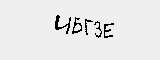Б: (70, 14, 86, 39)
Г: (81, 15, 93, 37)
Е: (101, 19, 115, 41)
З: (93, 19, 103, 41)
Ч: (50, 15, 73, 37)
